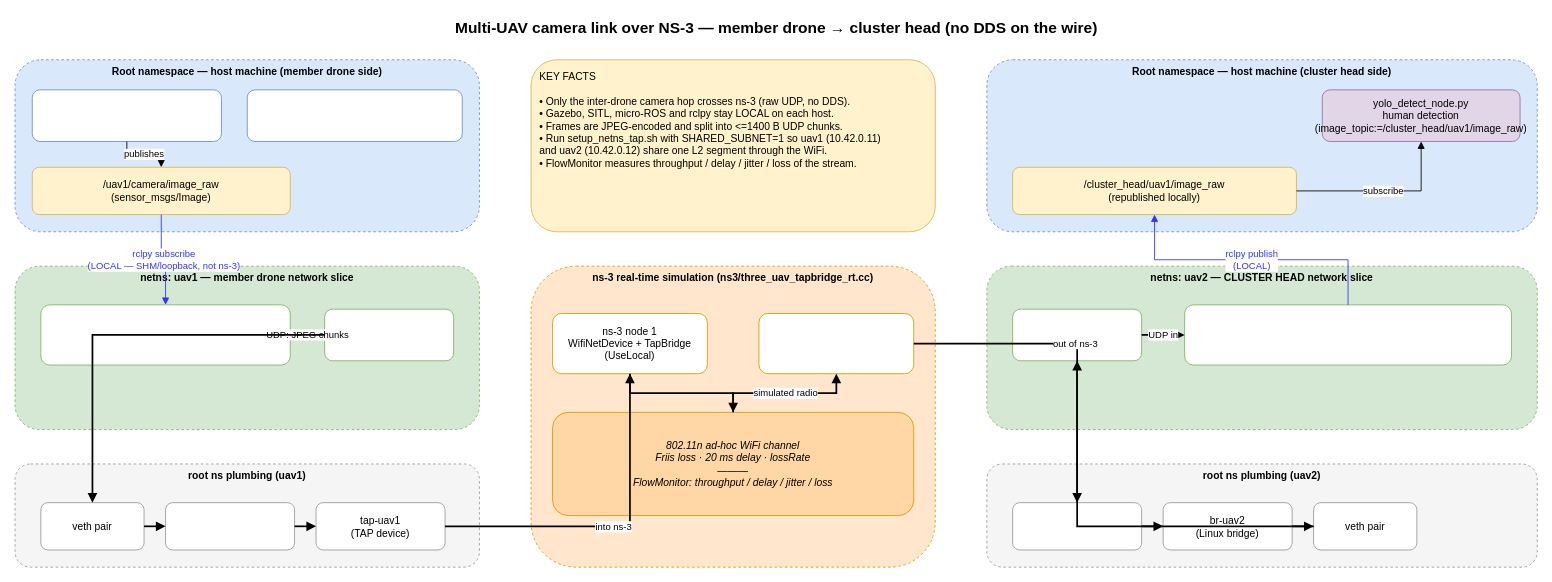
This 1552x582 diagram has some shape labels left out. Each missing label, with the centre of its shape:
ArduPilot SITL (AP_DDS) + micro-ROS agent (internal — does NOT use ns-3): (354,115)
br-uav1 (Linux bridge): (230,526)
camera_stream_receiver.py reassemble + JPEG decode (CLUSTER HEAD): (1347,334)
camera_stream_sender.py JPEG encode + chunk → UDP: (165,334)
eth0 10.42.0.11/24: (389,334)
eth0 10.42.0.12/24: (1077,334)
Gazebo Classic 11 + libgazebo_ros_camera (namespace /uav1): (126,115)
ns-3 node 2 WifiNetDevice + TapBridge (UseLocal): (836,343)
tap-uav2 (TAP device): (1077,526)
